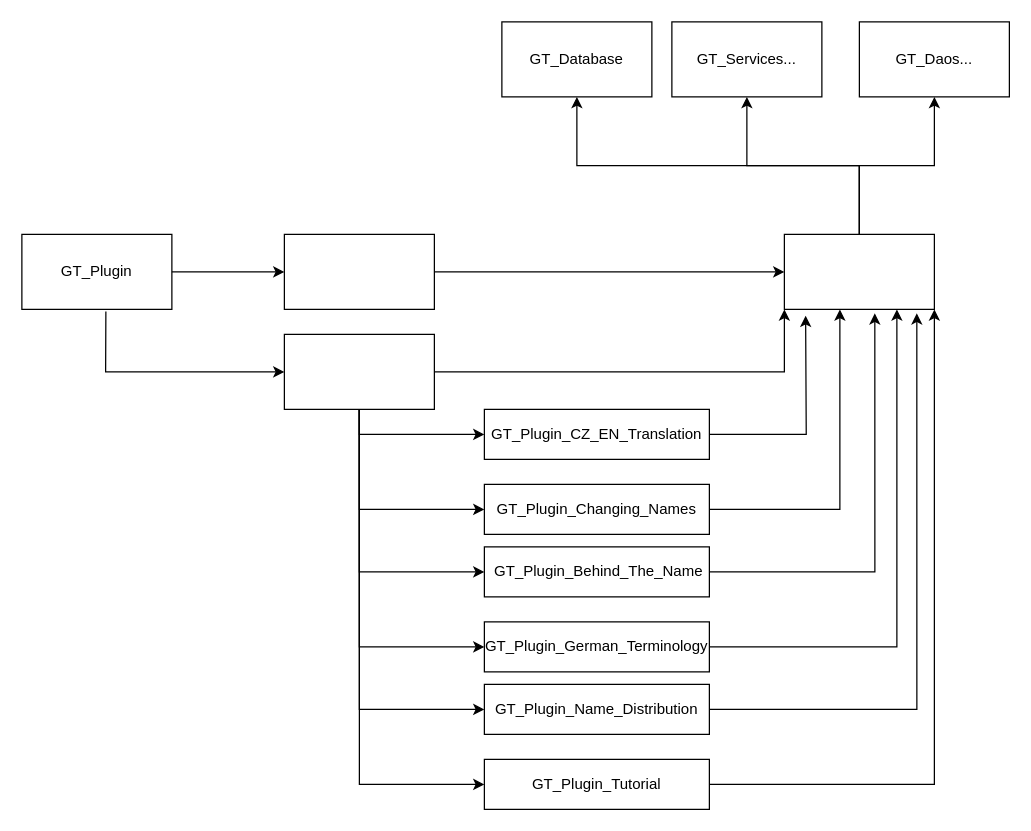
The diagram is 1031 pixels wide and 831 high, and some of its shapes have lost their labels. Each missing label, with the centre of its shape:
"GT_Container" goes at (x=858, y=271).
"GT_Plugin_Admin" goes at (x=358, y=271).
"GT_Plugin_Public" goes at (x=358, y=371).
